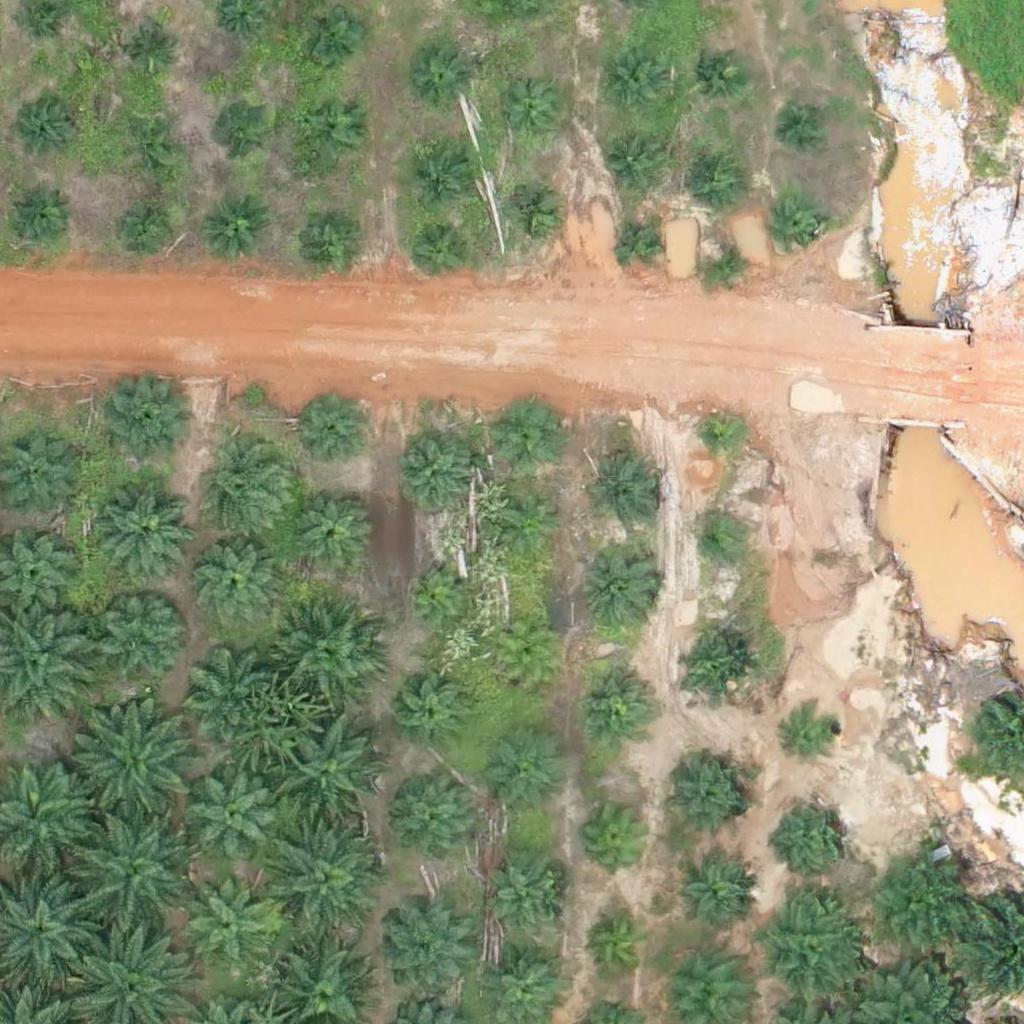Kelapa_Sawit: (77, 812, 202, 938), (73, 707, 198, 832), (272, 828, 385, 941), (864, 844, 976, 958), (754, 896, 866, 1009), (281, 727, 381, 828), (275, 604, 375, 704), (197, 440, 297, 540), (92, 473, 192, 573), (667, 757, 755, 845), (385, 907, 473, 995), (192, 774, 280, 862), (98, 590, 186, 678), (106, 374, 194, 462), (391, 776, 478, 865), (195, 540, 282, 629), (671, 854, 758, 942), (478, 858, 565, 946), (184, 880, 271, 968), (183, 647, 270, 735), (394, 429, 481, 517), (289, 486, 376, 574), (584, 451, 659, 527), (294, 396, 369, 472), (675, 632, 750, 708), (579, 908, 654, 984), (777, 795, 852, 871), (584, 548, 659, 624), (392, 675, 467, 750), (489, 739, 564, 814), (576, 666, 651, 741), (582, 799, 657, 874), (202, 198, 265, 261), (601, 51, 664, 114), (11, 181, 74, 244), (298, 96, 361, 159), (296, 203, 359, 266), (212, 103, 275, 166), (408, 220, 471, 283), (497, 401, 560, 464), (688, 147, 751, 210), (602, 132, 665, 195), (493, 623, 556, 686), (299, 10, 361, 73), (412, 142, 474, 205), (124, 116, 186, 179), (409, 46, 471, 109), (503, 497, 565, 560), (498, 84, 560, 147), (503, 182, 565, 245), (688, 42, 750, 105), (782, 704, 844, 767), (119, 198, 181, 260), (402, 563, 464, 625), (15, 103, 77, 165), (615, 217, 665, 268), (701, 238, 751, 289), (22, 4, 72, 54), (132, 29, 182, 79), (772, 204, 822, 254), (782, 99, 832, 149), (694, 412, 744, 462), (690, 519, 740, 569)
